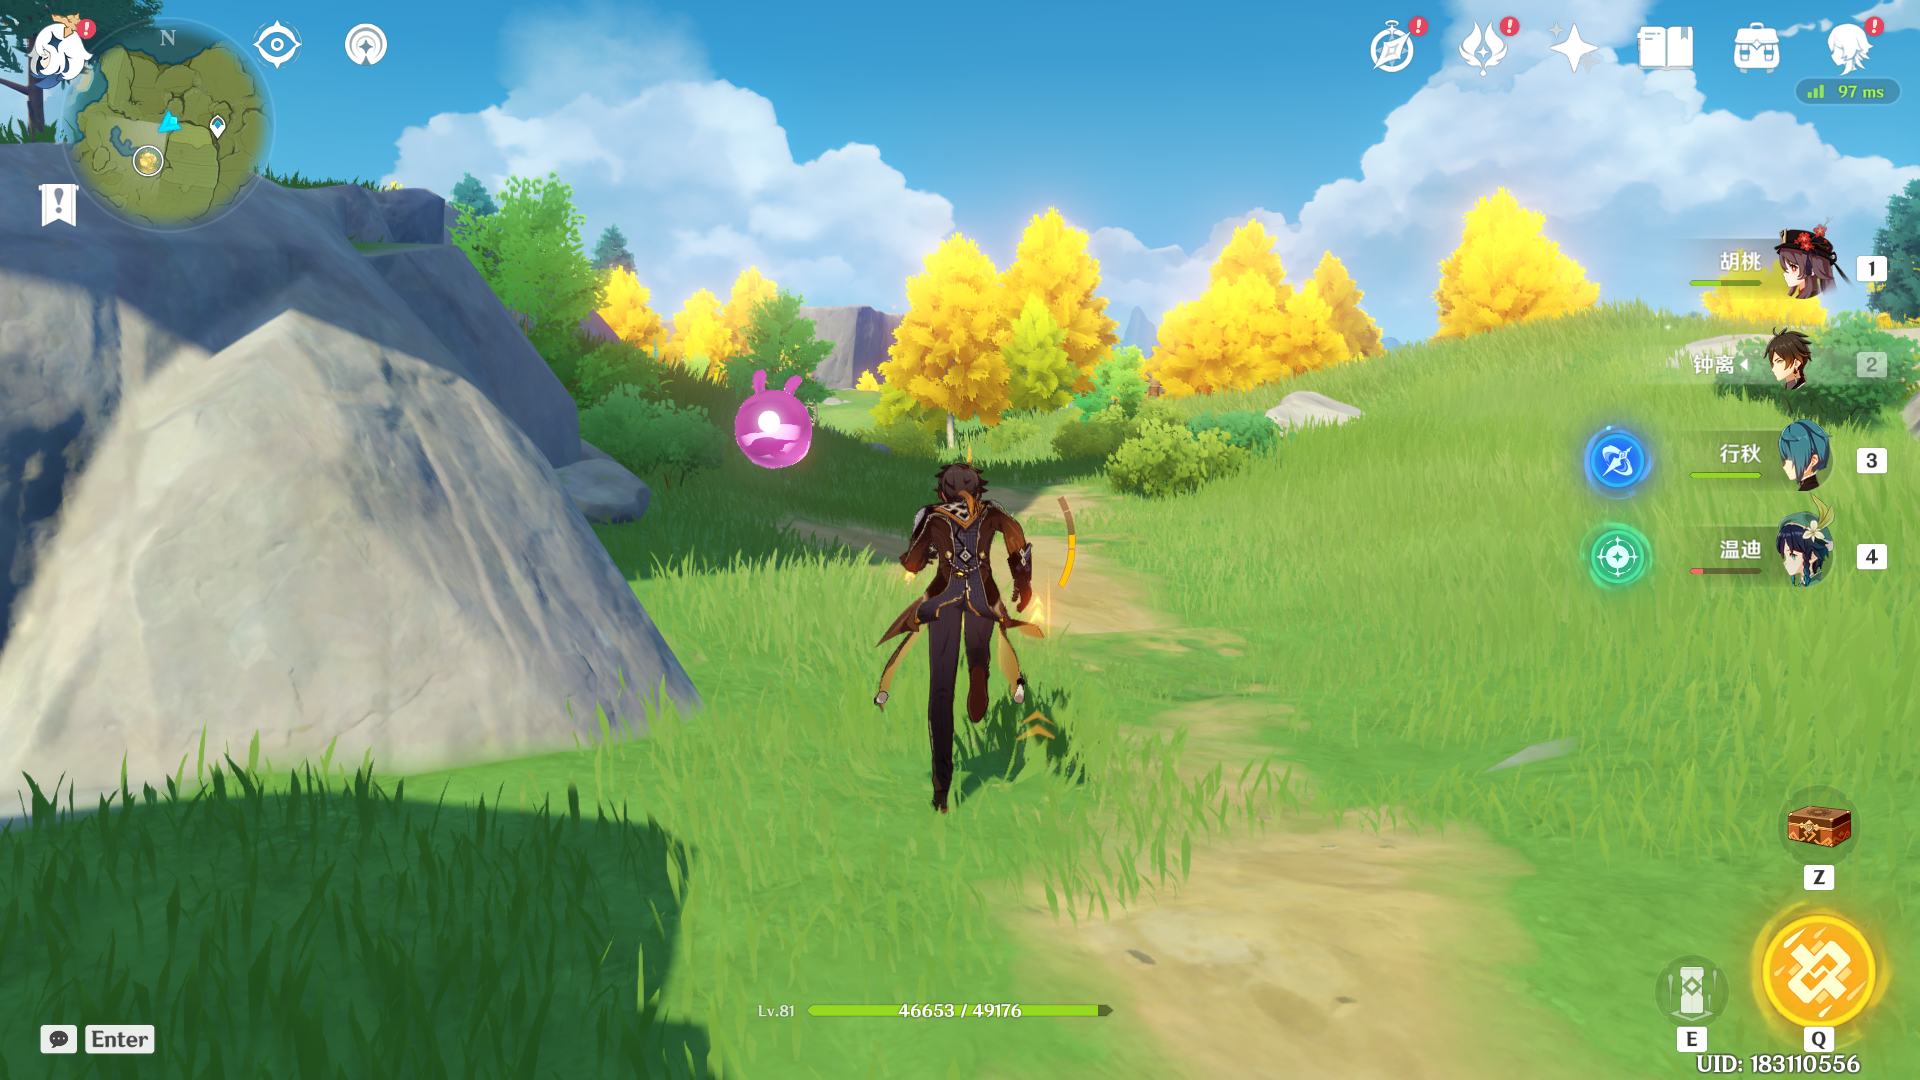character: (808, 357, 1120, 831)
